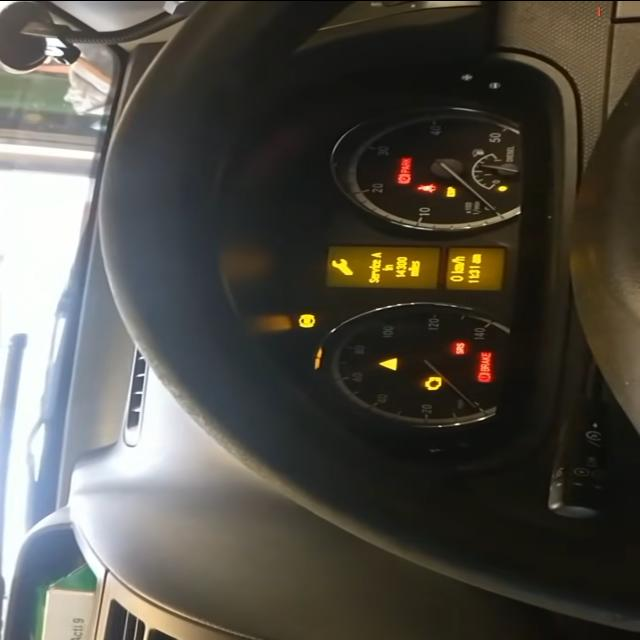Anti Lock Braking System: (298, 314, 316, 326)
Braking System Issue: (478, 351, 492, 381)
Check Engine: (424, 376, 442, 390)
Electronic Stability Problem -ESP-: (446, 186, 456, 196)
Master warning light: (378, 356, 398, 369)
